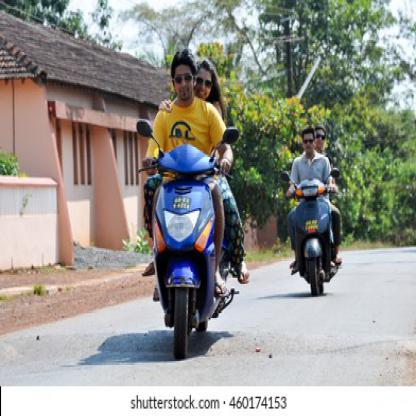motorcycle: (137, 49, 248, 360), (279, 125, 345, 300)
